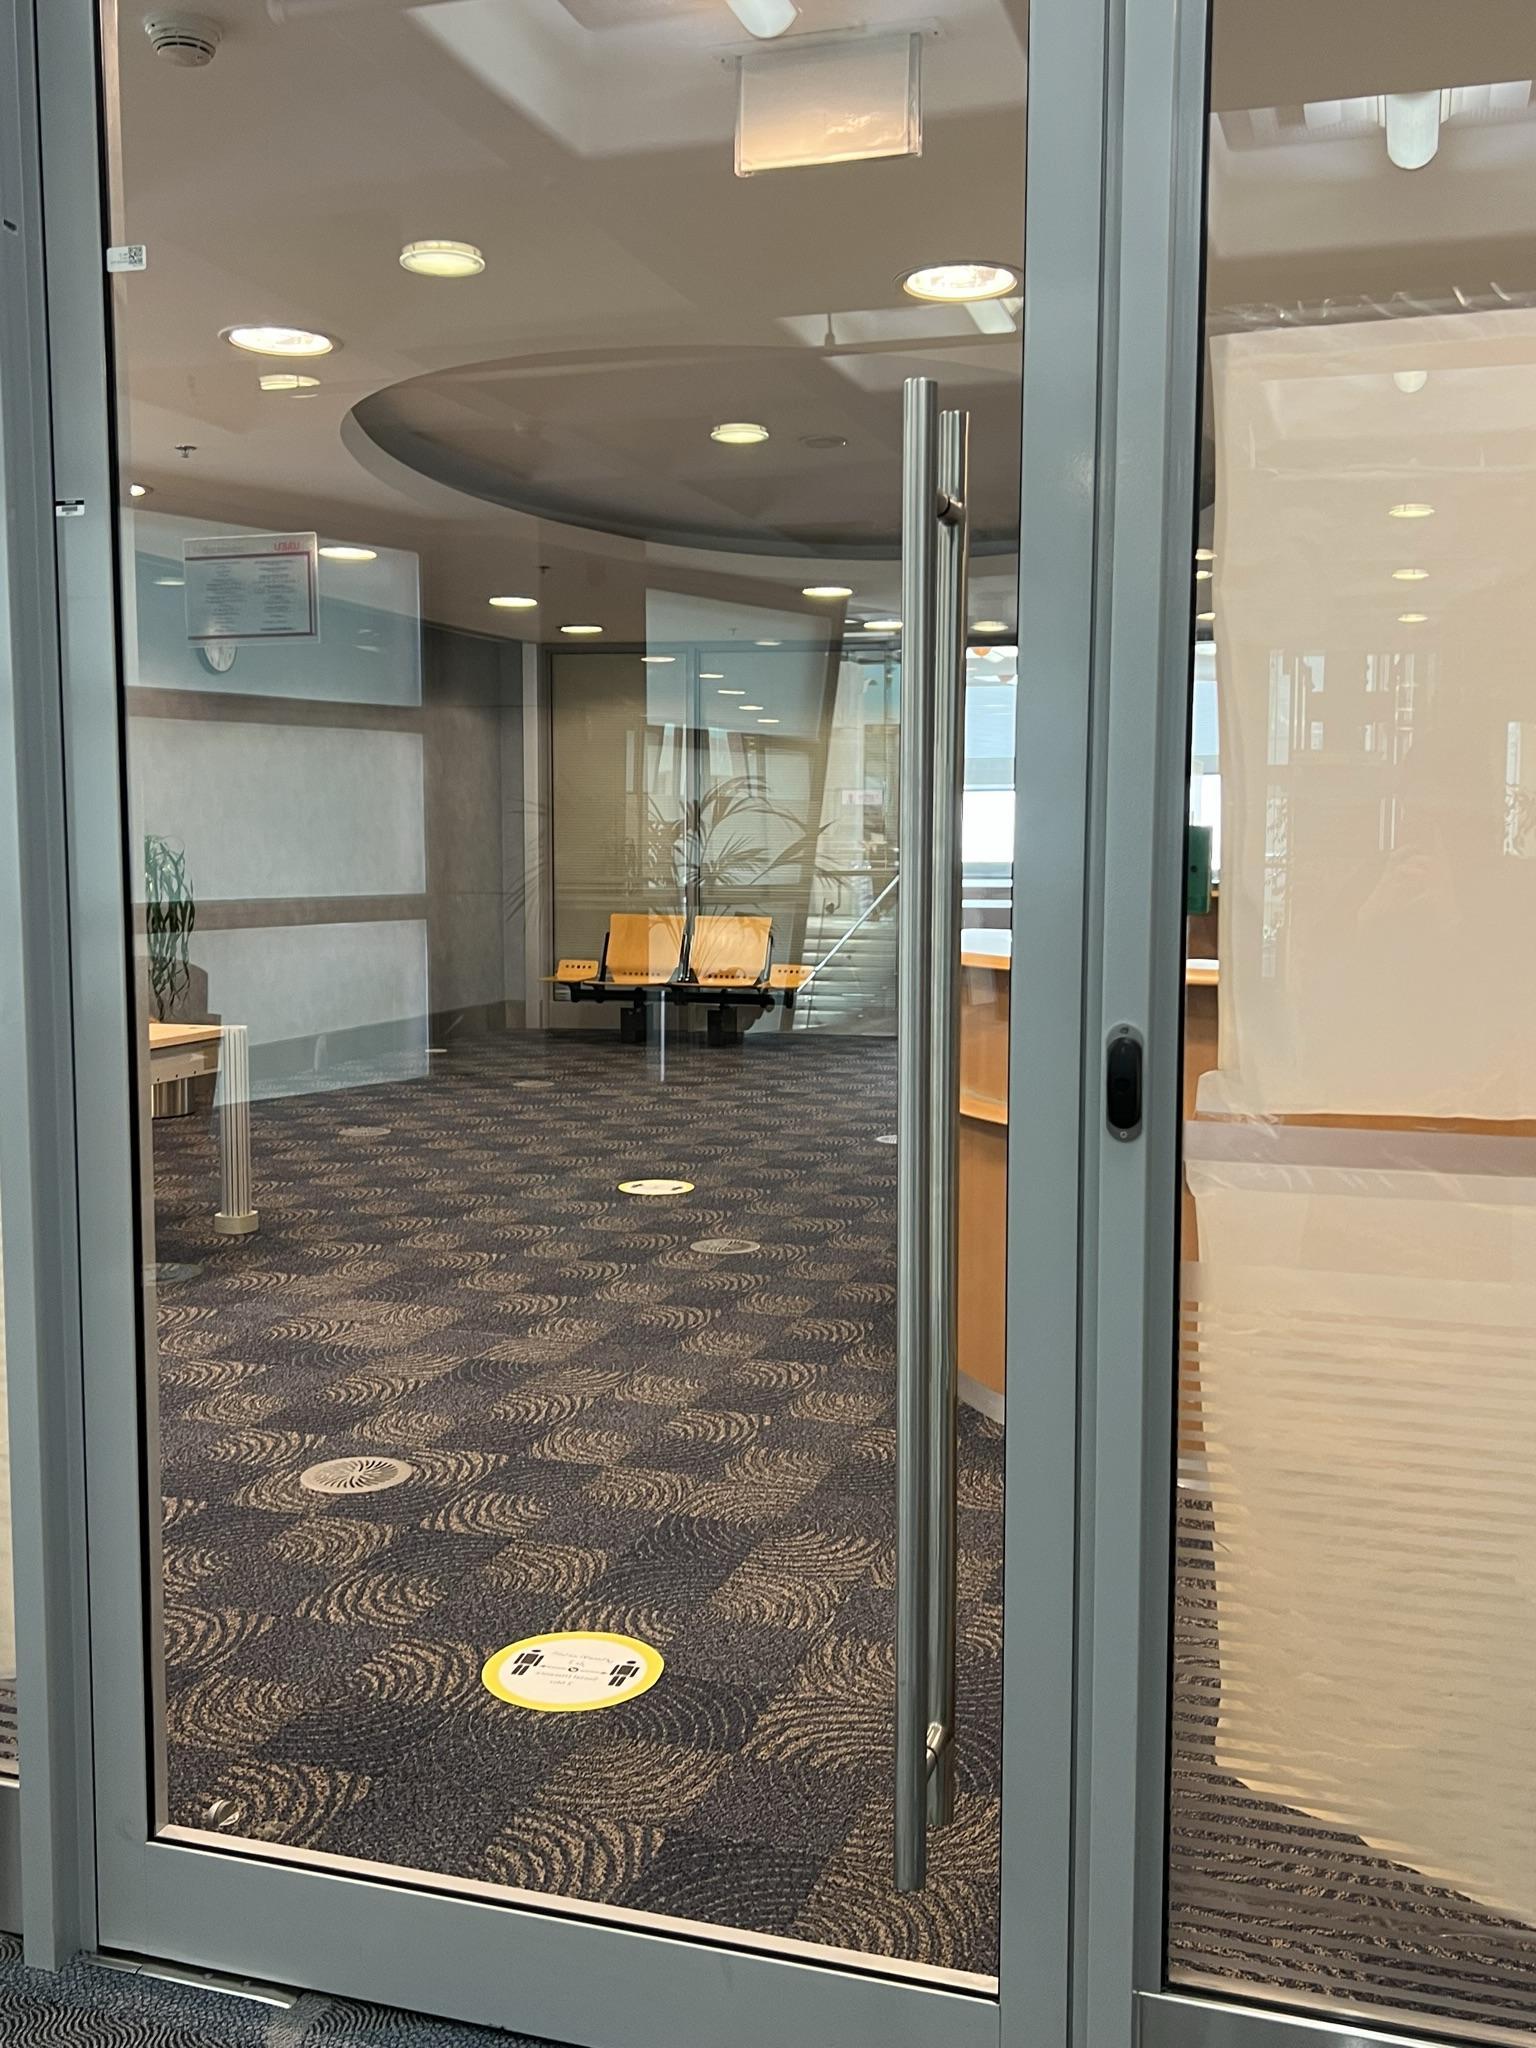door: (87, 0, 1115, 2016)
handle: (883, 366, 958, 1903)
